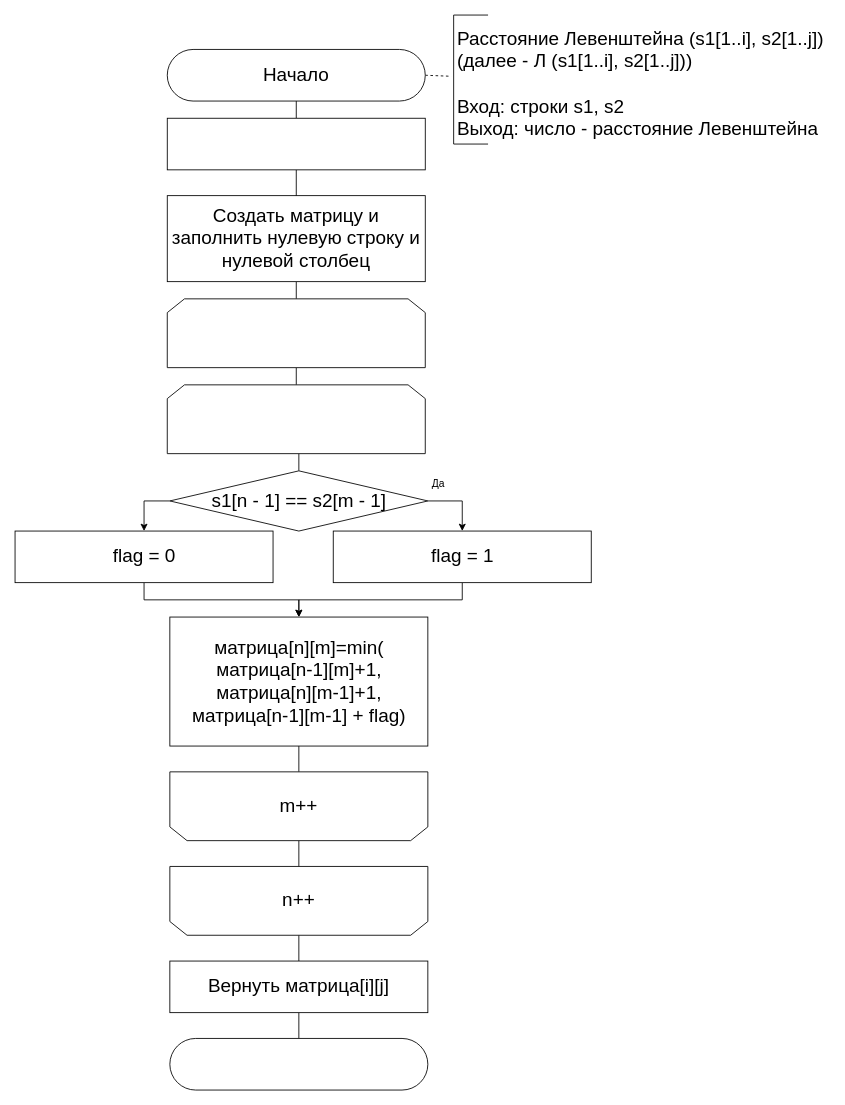
Some shapes in this 845 by 1105 pixel diagram are drawn without their labels. The centre of each missing label's shape, as x and y in pixels:
"i = длина (s1) j = длина (s2)" goes at pixel 295 143.
"m = 1 .. j + 1" goes at pixel 295 419.
"n = 1 .. i + 1" goes at pixel 295 333.
"Конец" goes at pixel 298 1064.
